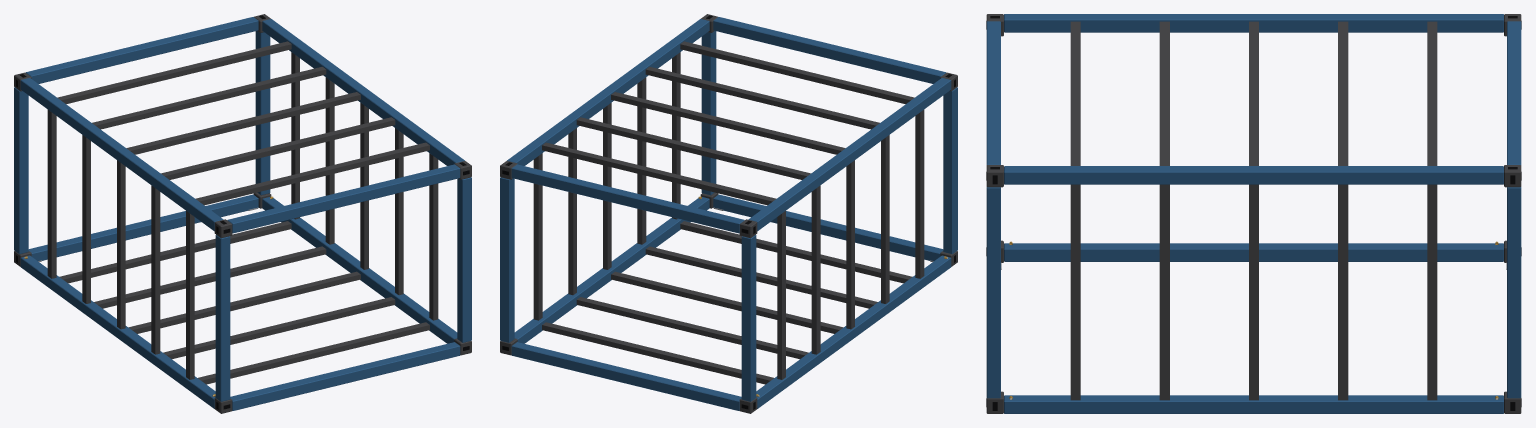
The model's file is hold100_frame.obj.
3 renders of one model, left to right at view 1: azimuth 30°, elevation 25°; view 2: azimuth 150°, elevation 25°; view 3: azimuth 270°, elevation 25°, orthographic. The views are drawn at different scales.
Parts seen in each view (by area): view 1: hold100_frame; view 2: hold100_frame; view 3: hold100_frame.
Part boxes in pixels (box(x1,y1,x2,y2)): hold100_frame: box(14, 14, 471, 413); hold100_frame: box(500, 14, 957, 413); hold100_frame: box(986, 14, 1521, 413).
Bounding box in the file's own units: 5.2 × 3.72 × 7.43.
